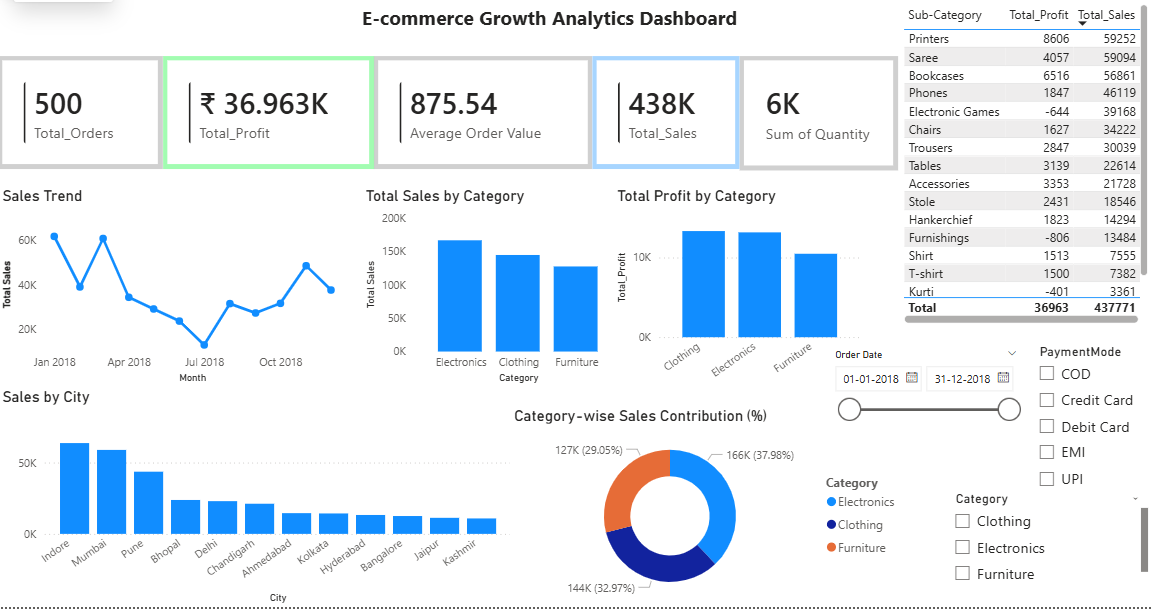

The page's visual inventory and layout, read from the dashboard file:
{"tool":"powerbi","page":{"name":"Page 1","canvas":[1280,720],"ordinal":0},"visuals":[{"type":"textbox","box":[10,0,280,280],"z":0},{"type":"textbox","box":[398.3,47.9,449,42.2],"z":1000},{"type":"cardVisual","fields":{"Data":["Details.Total_Orders"]},"box":[0,109.8,183,125.3],"z":2000},{"type":"cardVisual","fields":{"Data":["Details.Total_Profit"]},"box":[183,109.8,233.6,125.3],"z":3000},{"type":"cardVisual","fields":{"Data":["Details.Total_Sales"]},"box":[658.7,109.8,163.3,125.3],"z":4000},{"type":"cardVisual","fields":{"Data":["Details.Average Order Value"]},"box":[416.6,109.8,242.1,125.3],"z":5000},{"type":"lineChart","title":"Sales Trend","fields":{"Y":["Details.Total_Sales"],"Category":["Orders.Order Date.Variation.Date Hierarchy.Year","Orders.Order Date.Variation.Date Hierarchy.Month"]},"box":[0,254.7,398.3,222.4],"z":6000},{"type":"clusteredColumnChart","title":"Total Sales by Category","fields":{"Category":["Details.Category"],"Y":["Details.Total_Sales"]},"box":[402.5,254.7,295.6,222.4],"z":7000},{"type":"clusteredColumnChart","title":"Sales by City","fields":{"Category":["Orders.City"],"Y":["Details.Region Sales"]},"box":[0,477.1,574.2,243.5],"z":8000},{"type":"tableEx","fields":{"Values":["Details.Sub-Category","Details.Total_Profit","Details.Total_Sales"]},"box":[997.9,47.9,281.5,363.1],"z":9000},{"type":"clusteredColumnChart","title":"Total Profit by Category","fields":{"Y":["Details.Total_Profit"],"Category":["Details.Category"]},"box":[681.2,254.7,281.5,243.5],"z":10000},{"type":"cardVisual","fields":{"Data":["Sum(Details.Quantity)"]},"box":[821.9,109.8,175.9,126.7],"z":11000},{"type":"donutChart","title":"Category-wise Sales Contribution (%)","fields":{"Category":["Details.Category"],"Y":["Details.Total_Sales"]},"box":[567.2,498.2,440.5,222.4],"z":12000},{"type":"slicer","fields":{"Values":["Orders.Order Date"]},"box":[914.8,429.3,226.6,94.3],"z":13000},{"type":"slicer","fields":{"Values":["Details.Category"]},"box":[1048.5,586.9,230.8,111.2],"z":14000},{"type":"slicer","fields":{"Values":["Details.PaymentMode"]},"box":[1141.4,423.6,137.9,175.9],"z":14001}]}

Visuals, with their boxes on the page's 1280x720 design canvas (x1, y1, x2, y2). These are canvas units, not pixel positions in the 1153x609 screenshot, which may show the page scaled, cropped or inside an application window:
textbox: [10,0,290,280]
textbox: [398,48,847,90]
cardVisual - Details.Total_Orders: [0,110,183,235]
cardVisual - Details.Total_Profit: [183,110,417,235]
cardVisual - Details.Total_Sales: [659,110,822,235]
cardVisual - Details.Average Order Value: [417,110,659,235]
"Sales Trend" lineChart: [0,255,398,477]
"Total Sales by Category" clusteredColumnChart: [402,255,698,477]
"Sales by City" clusteredColumnChart: [0,477,574,721]
tableEx - Details.Sub-Category x Details.Total_Profit: [998,48,1279,411]
"Total Profit by Category" clusteredColumnChart: [681,255,963,498]
cardVisual - Sum(Details.Quantity): [822,110,998,236]
"Category-wise Sales Contribution (%)" donutChart: [567,498,1008,721]
slicer - Orders.Order Date: [915,429,1141,524]
slicer - Details.Category: [1048,587,1279,698]
slicer - Details.PaymentMode: [1141,424,1279,600]
